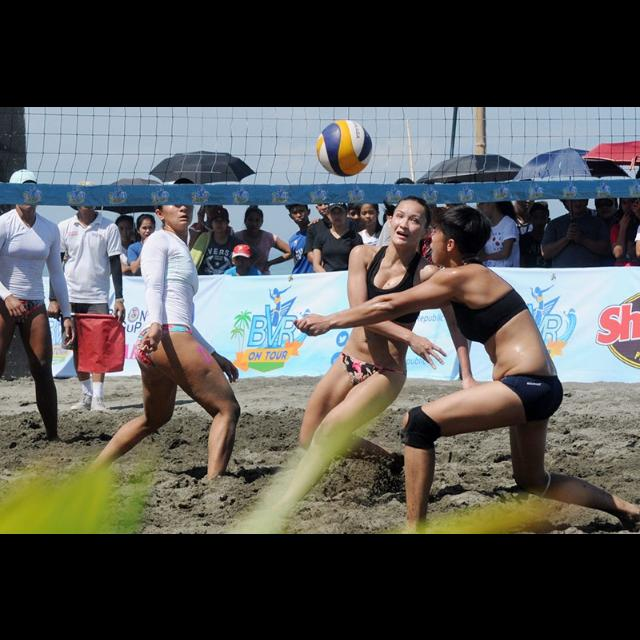head: (431, 205, 493, 268), (387, 195, 433, 247), (154, 184, 196, 228), (12, 173, 40, 210), (514, 178, 536, 212), (73, 182, 99, 210), (566, 184, 590, 214), (288, 199, 312, 225), (328, 199, 350, 227), (244, 206, 266, 234), (117, 214, 137, 242), (478, 191, 502, 213), (359, 202, 381, 226), (530, 204, 550, 230), (136, 215, 156, 241), (328, 200, 348, 226), (203, 195, 225, 218), (212, 210, 230, 233), (233, 245, 250, 269), (619, 192, 637, 212)
person: (72, 176, 242, 508), (0, 166, 76, 452), (44, 181, 126, 417), (540, 183, 610, 369), (228, 202, 294, 378), (185, 205, 249, 375), (312, 195, 368, 372), (501, 177, 551, 366), (474, 184, 522, 376), (185, 190, 238, 358), (348, 197, 398, 367), (303, 192, 353, 354), (516, 198, 560, 368), (285, 193, 327, 371), (124, 211, 170, 371), (100, 212, 146, 370), (223, 241, 269, 385)
